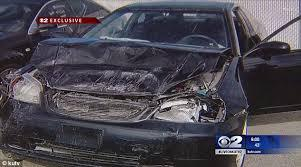Headlight-Damage: (155, 93, 226, 127), (5, 66, 49, 113)
bonnet-dent: (47, 33, 229, 101)
